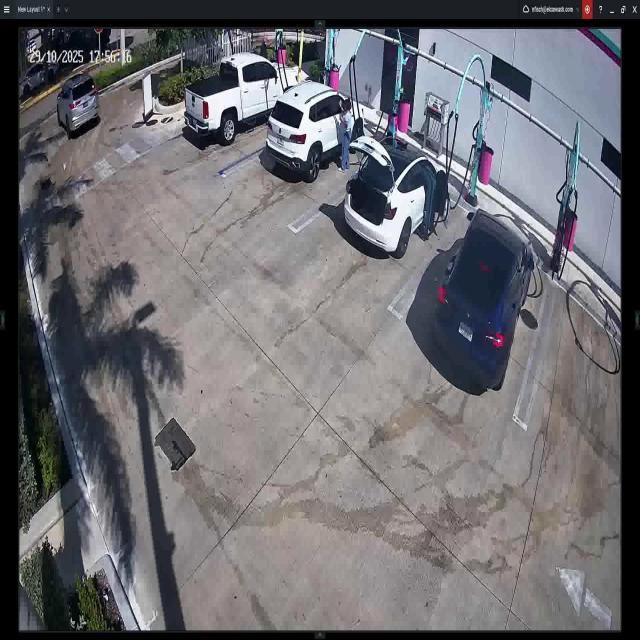Car: (422, 207, 534, 390), (340, 134, 440, 255), (185, 56, 303, 148), (269, 85, 365, 181), (54, 72, 101, 134)
